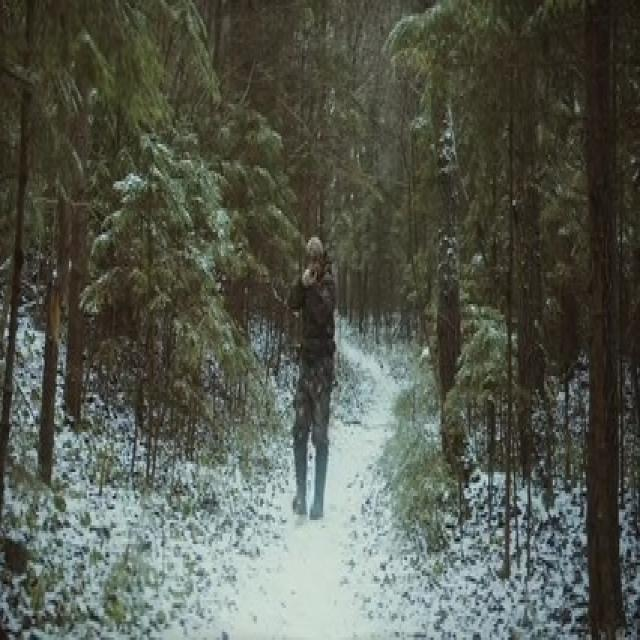Gun_Holder: (303, 263, 323, 289)
Person: (289, 232, 340, 532)
